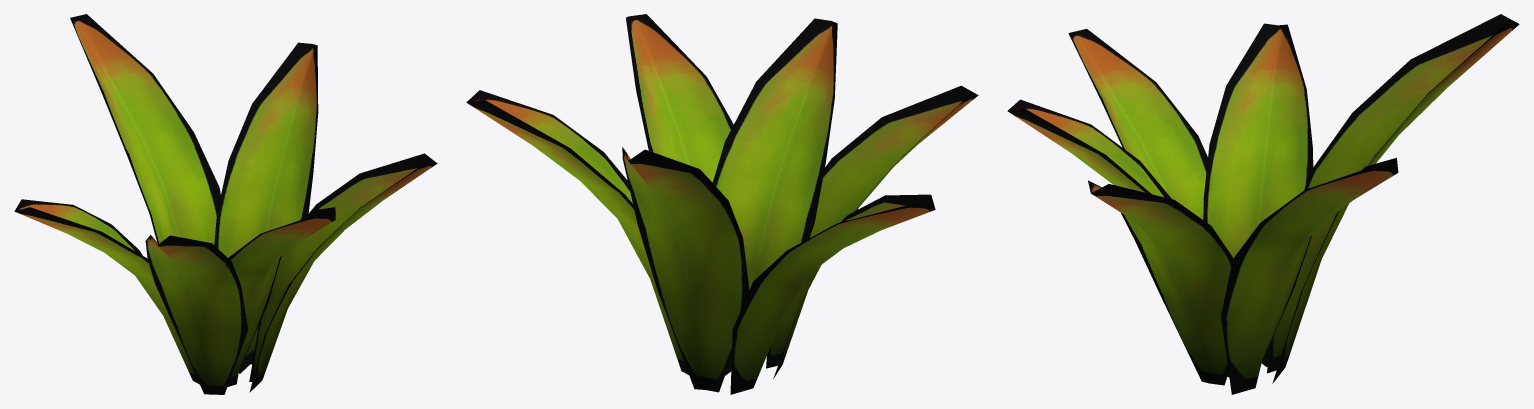
File: plant_1.gltf
3 views of the same model, side by side, from view 1: azimuth 30°, elevation 25°; view 2: azimuth 150°, elevation 25°; view 3: azimuth 270°, elevation 25° (orthographic). The views are drawn at different scales.
Visible parts, largest first — view 1: Plant_1; view 2: Plant_1; view 3: Plant_1.
Boxes of the visible parts, x1,y1,x2,y2 form: Plant_1: (14,14,437,394); Plant_1: (466,14,978,394); Plant_1: (1007,14,1519,394).
Size of the model in its own units: 1.27 by 1.01 by 1.39.
Materials: 1 (1 with a texture image).
